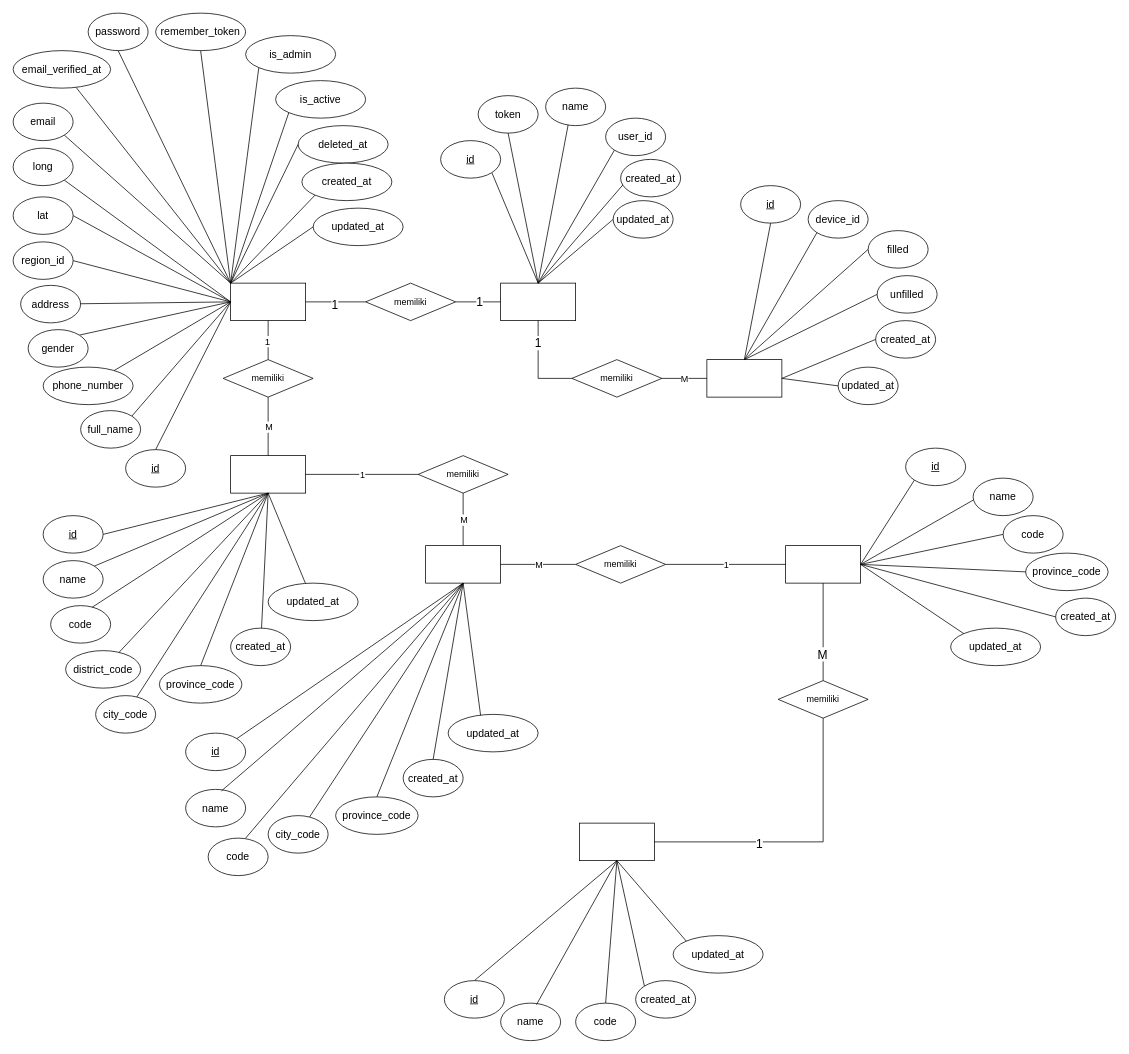
The diagram is 1129 pixels wide and 1054 high, and some of its shapes have lost their labels. The shapes that lost their labels are listed below. From the top down, each one's centre as x and y in pixels, then its label:
At [268,301]: "users".
At [538,301]: "devices".
At [744,378]: "device_data".
At [268,474]: "sub_districts".
At [463,564]: "districts".
At [823,564]: "cities".
At [616,841]: "provinces".
